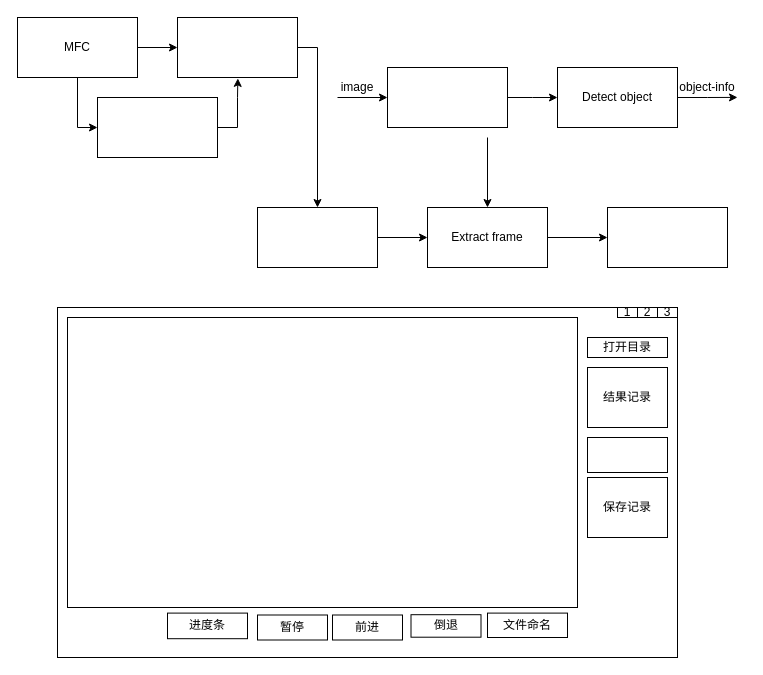
The diagram is 763 pixels wide and 675 high, and some of its shapes have lost their labels. Here are the shapes that lost their labels. From the top down, the centre of each, then its label:
point (237, 47): VLC-Warper
point (447, 97): TensorRT
point (157, 127): VLC_Diagram
point (317, 237): VLC Media Player
point (667, 237): Intelligent analysis
point (627, 454): 智能分析
